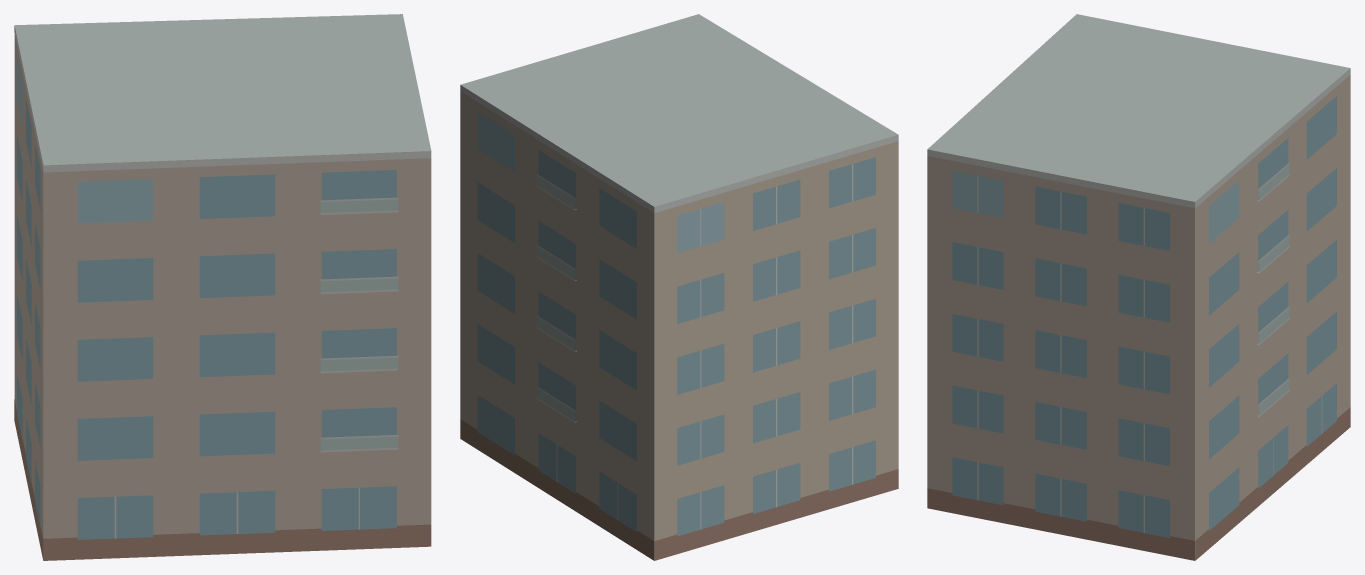
The model's file is survey-upis-32637817.glb.
The picture shows the model from 3 angles, left to right: view 1: azimuth 30°, elevation 25°; view 2: azimuth 150°, elevation 25°; view 3: azimuth 270°, elevation 25°; orthographic projection. The views are drawn at different scales.
Visible parts, largest first — view 1: survey-upis-32637817.tmp; view 2: survey-upis-32637817.tmp; view 3: survey-upis-32637817.tmp.
Part boxes in pixels (bbox=[...]): survey-upis-32637817.tmp: bbox=[14, 14, 431, 560]; survey-upis-32637817.tmp: bbox=[460, 14, 898, 560]; survey-upis-32637817.tmp: bbox=[927, 14, 1350, 560].
Size of the model in its own units: 15.29 by 13.6 by 14.55.
